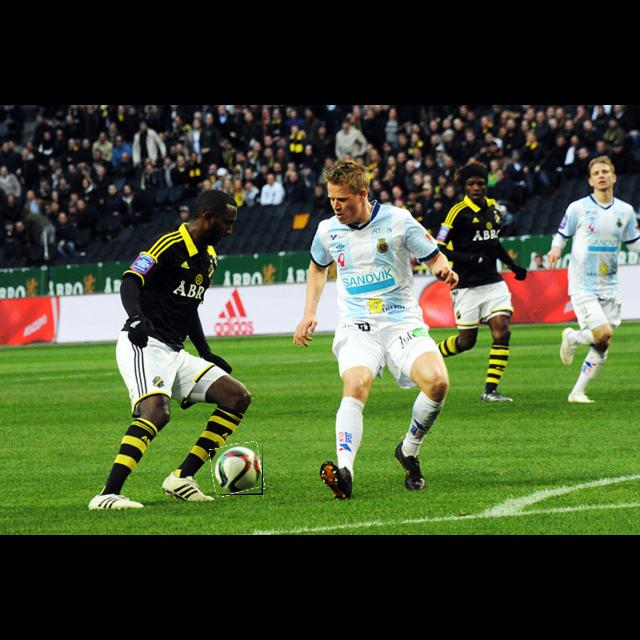Football: (211, 443, 263, 495)
